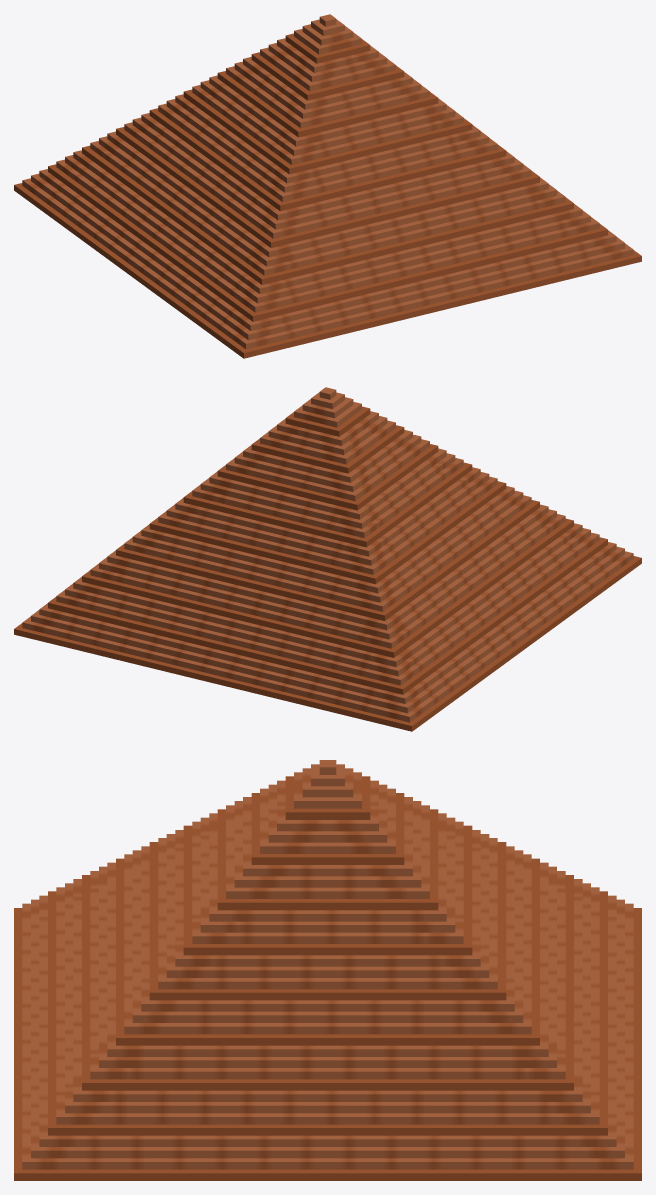
Rendered from roof_textured_orange_spikey_cube.obj.
3 renders of one model, top to bottom at view 1: azimuth 30°, elevation 25°; view 2: azimuth 150°, elevation 25°; view 3: azimuth 270°, elevation 25°, orthographic. The views are drawn at different scales.
Parts seen in each view (by area): view 1: GameObject_roof_textured_orange_spikey_cube.002; view 2: GameObject_roof_textured_orange_spikey_cube.002; view 3: GameObject_roof_textured_orange_spikey_cube.002.
Part boxes in pixels (x1=…): GameObject_roof_textured_orange_spikey_cube.002: x1=14, y1=14, x2=641, y2=358; GameObject_roof_textured_orange_spikey_cube.002: x1=14, y1=387, x2=641, y2=731; GameObject_roof_textured_orange_spikey_cube.002: x1=14, y1=760, x2=641, y2=1180.
Size of the model in its own units: 7.4 by 3.7 by 7.4.
